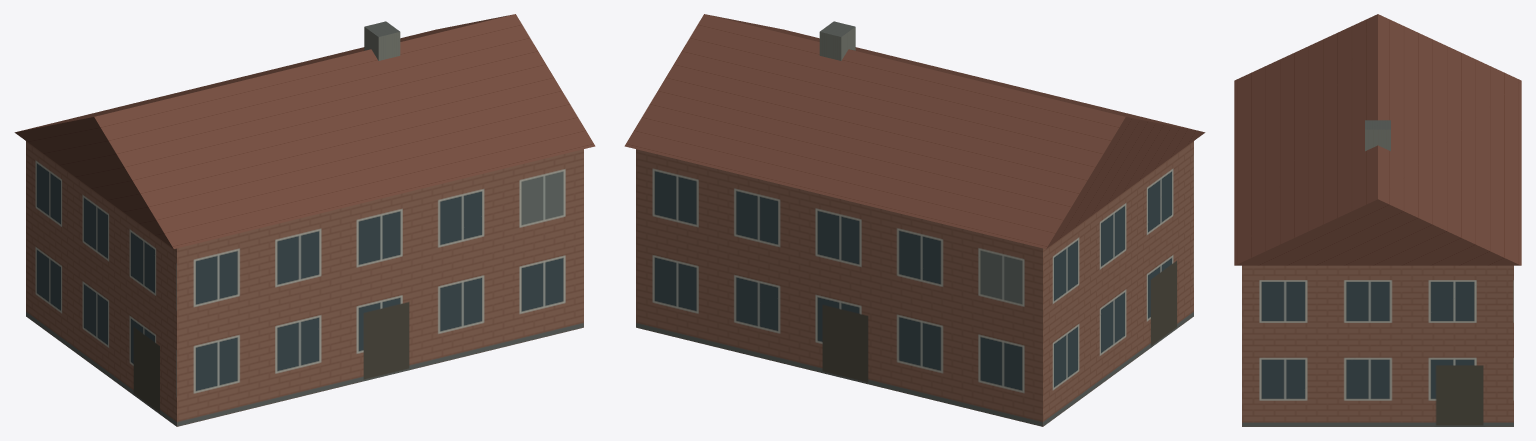
The model's file is kyiv_private_04.obj.
3 views of the same model, side by side, from view 1: azimuth 30°, elevation 25°; view 2: azimuth 150°, elevation 25°; view 3: azimuth 270°, elevation 25° (orthographic). The views are drawn at different scales.
Visible parts, largest first — view 1: kyiv_private_04; view 2: kyiv_private_04; view 3: kyiv_private_04.
Part boxes in pixels (x1,y1,x2,y2): kyiv_private_04: (14, 14, 595, 426); kyiv_private_04: (624, 14, 1205, 426); kyiv_private_04: (1234, 14, 1521, 426).
Size of the model in its own units: 14.5 by 9 by 9.5.
Materials: 1 (1 with a texture image).
